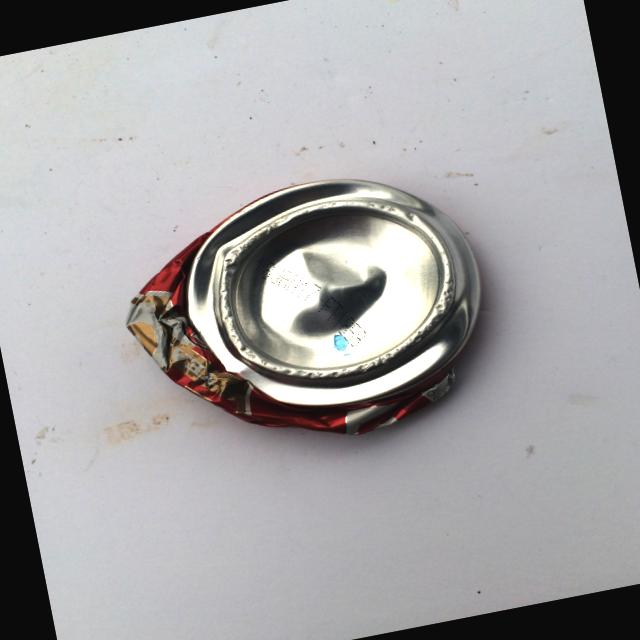Metal: (96, 142, 528, 496)
